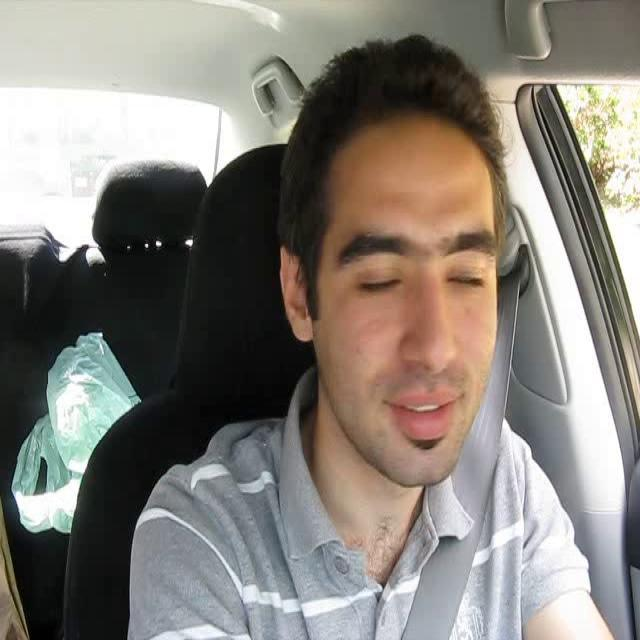close: (381, 384, 462, 443)
